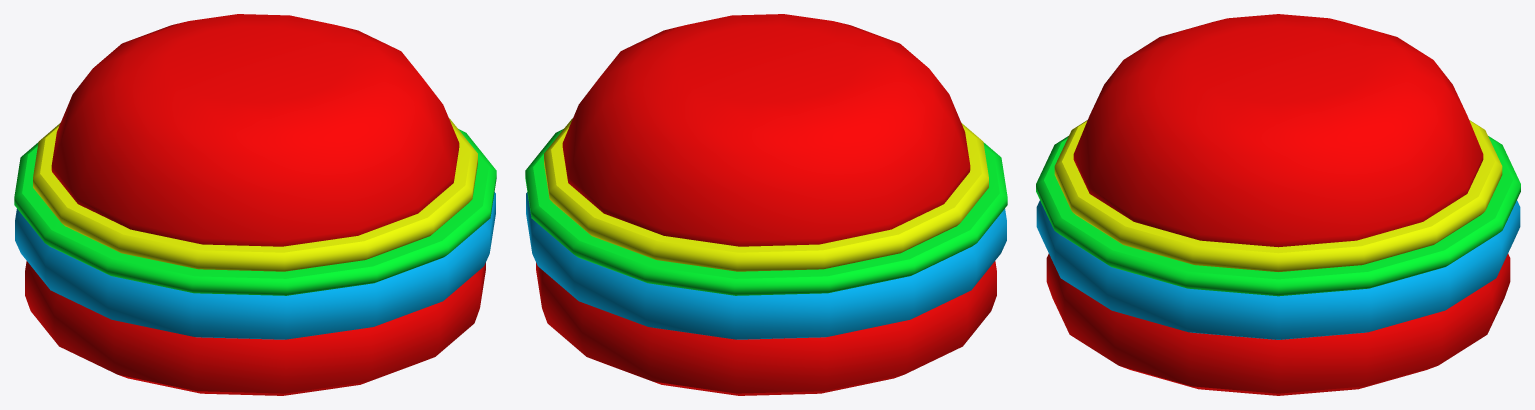
File: Burger_Model.FBX
3 views of the same model, side by side, from view 1: azimuth 30°, elevation 25°; view 2: azimuth 150°, elevation 25°; view 3: azimuth 270°, elevation 25° (orthographic).
Visible parts, largest first — view 1: Cylinder001; view 2: Cylinder001; view 3: Cylinder001.
Part boxes in pixels (x1,y1,x2,y2): Cylinder001: [14, 14, 496, 395]; Cylinder001: [525, 14, 1007, 395]; Cylinder001: [1036, 14, 1520, 395].
Bounding box in the file's own units: 20.03 × 11.21 × 20.03.
